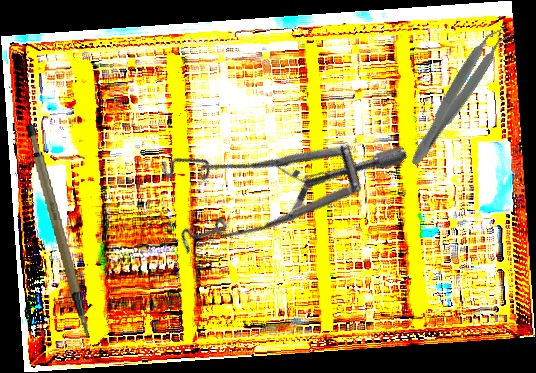Scalpel Handle: (22, 121, 92, 343)
Speculum: (131, 38, 410, 306)
Tissue Forceps: (404, 19, 516, 173)
